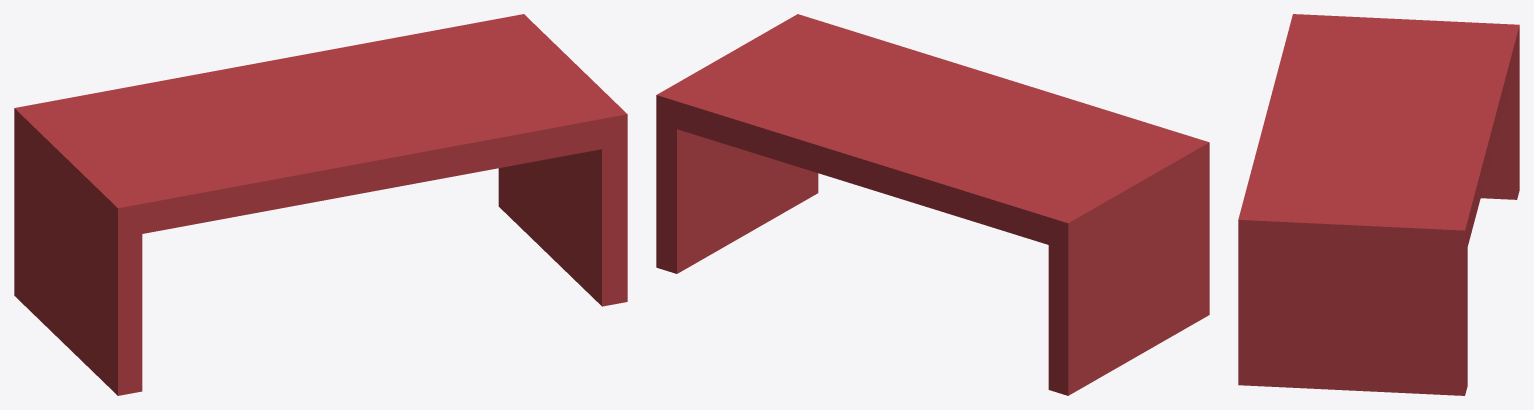
File: bank.fbx
The picture shows the model from 3 angles, left to right: view 1: azimuth 30°, elevation 25°; view 2: azimuth 150°, elevation 25°; view 3: azimuth 270°, elevation 25°; orthographic projection. The views are drawn at different scales.
Parts seen in each view (by area): view 1: Tafel.001; view 2: Tafel.001; view 3: Tafel.001.
Boxes of the visible parts, box(x1,y1,x2,y2) form: Tafel.001: box(14, 14, 627, 395); Tafel.001: box(656, 14, 1209, 395); Tafel.001: box(1238, 14, 1519, 395).
Size of the model in its own units: 325 by 116 by 178.
